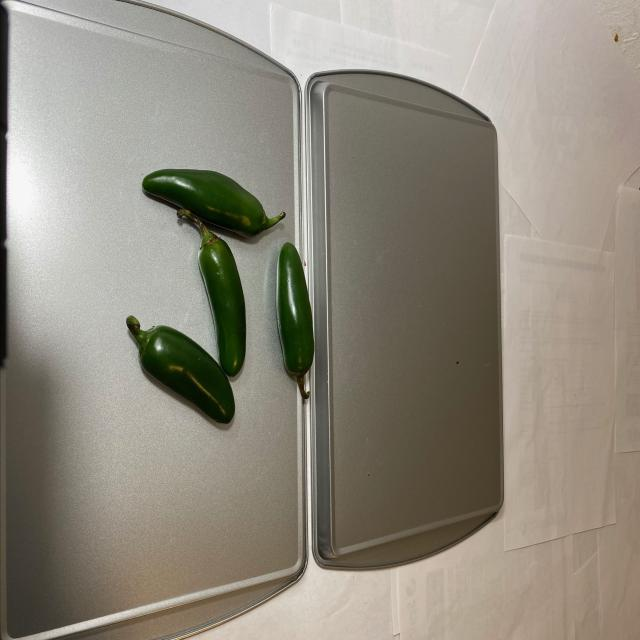chilli: (128, 168, 318, 426)
